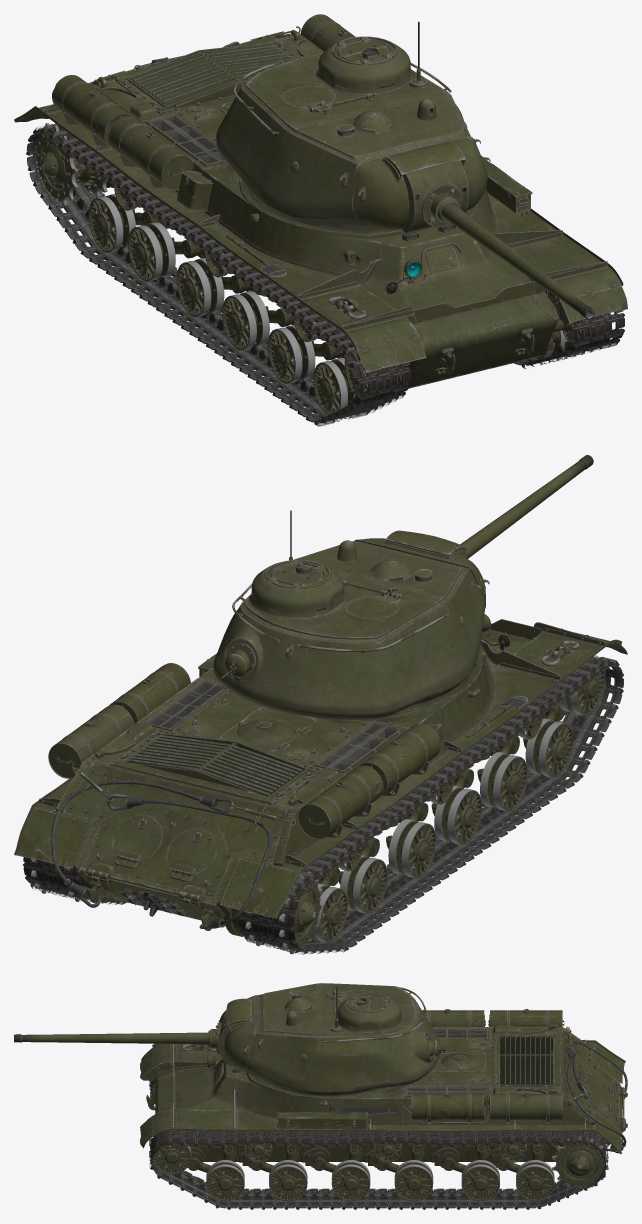
The picture shows the model from 3 angles, top to bottom: view 1: azimuth 30°, elevation 25°; view 2: azimuth 150°, elevation 25°; view 3: azimuth 270°, elevation 25°; orthographic projection. The views are drawn at different scales.
Parts seen in each view (by area): view 1: Object_25, Object_13, Object_7, Object_22, Object_26, Object_28, Object_23, Object_12, Object_24, wheelLS, Object_2, wheelL2 (+8 smaller); view 2: Object_25, Object_13, Object_7, Object_22, Object_26, Object_27, Object_24, Object_23, Object_12, Object_8, wheelL3, wheelL5 (+10 smaller); view 3: Object_25, Object_13, Object_2, Object_22, Object_23, Object_26, Object_27, Object_24, Object_28, wheelRS, Object_12, wheelR3 (+10 smaller).
Boxes of the visible parts, x1,y1,x2,y2 form: Object_25: [42, 30, 623, 392]; Object_13: [216, 36, 490, 230]; Object_7: [26, 123, 411, 426]; Object_22: [42, 26, 623, 358]; Object_26: [14, 75, 458, 283]; Object_28: [401, 161, 594, 319]; Object_23: [226, 160, 627, 324]; Object_12: [281, 37, 465, 179]; Object_24: [300, 14, 426, 372]; wheelLS: [36, 123, 108, 205]; Object_2: [514, 310, 624, 368]; wheelL2: [128, 222, 175, 281]; Object_25: [41, 622, 621, 936]; Object_13: [213, 538, 489, 719]; Object_7: [238, 655, 623, 954]; Object_22: [39, 627, 621, 928]; Object_26: [220, 614, 490, 918]; Object_27: [83, 803, 231, 902]; Object_24: [14, 628, 627, 868]; Object_23: [109, 619, 579, 913]; Object_12: [225, 530, 466, 677]; Object_8: [146, 680, 399, 770]; wheelL3: [386, 819, 436, 878]; wheelL5: [477, 752, 527, 811]; Object_25: [146, 1024, 627, 1161]; Object_13: [224, 983, 440, 1095]; Object_2: [149, 1130, 608, 1209]; Object_22: [152, 1024, 627, 1167]; Object_23: [140, 1044, 489, 1148]; Object_26: [207, 1009, 625, 1085]; Object_27: [188, 1061, 625, 1172]; Object_24: [140, 1047, 622, 1154]; Object_28: [14, 1010, 232, 1065]; wheelRS: [552, 1135, 608, 1187]; Object_12: [226, 989, 440, 1056]; wheelR3: [394, 1160, 433, 1201].
Size of the model in its own units: 3.22 by 3.17 by 8.79.
10 materials, 10 textured.
